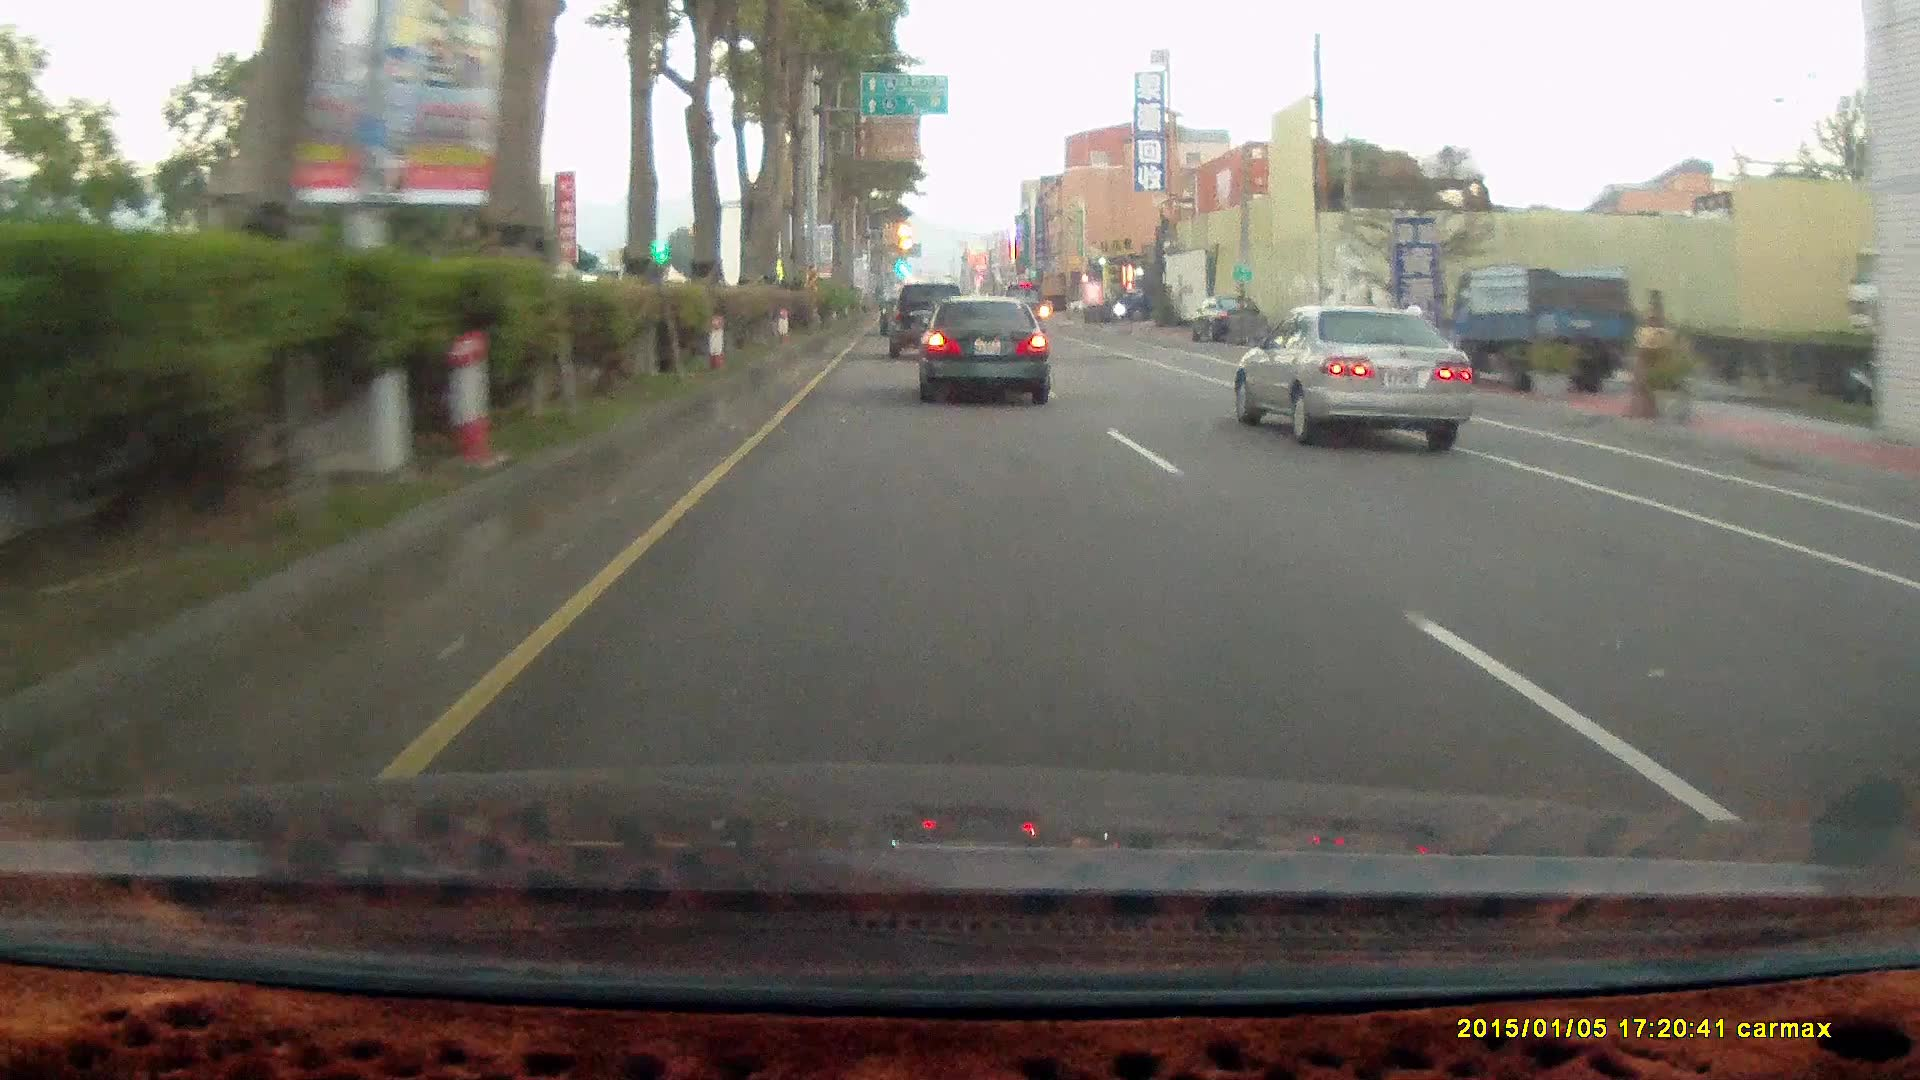vehicle: (1224, 302, 1484, 448), (1232, 302, 1476, 448), (1447, 261, 1629, 394), (1448, 264, 1629, 390), (913, 291, 1048, 400), (922, 295, 1055, 404), (886, 278, 967, 356), (1192, 294, 1273, 344), (1112, 280, 1182, 320)
